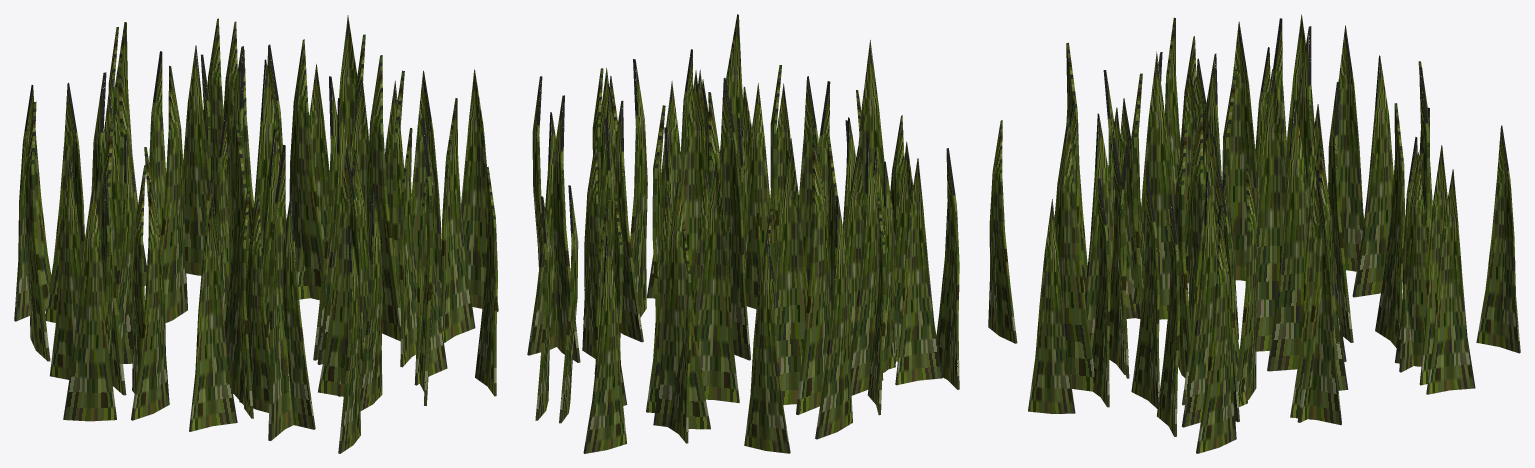
The model's file is grassTall.glb.
3 renders of one model, left to right at view 1: azimuth 30°, elevation 25°; view 2: azimuth 150°, elevation 25°; view 3: azimuth 270°, elevation 25°, orthographic. The views are drawn at different scales.
Parts seen in each view (by area): view 1: grassTall; view 2: grassTall; view 3: grassTall.
Boxes of the visible parts, x1,y1,x2,y2 form: grassTall: (14, 15, 498, 453); grassTall: (527, 14, 959, 453); grassTall: (988, 14, 1520, 453).
Bounding box in the file's own units: 4.26 × 2.68 × 4.58.
Materials: 1 (1 with a texture image).
